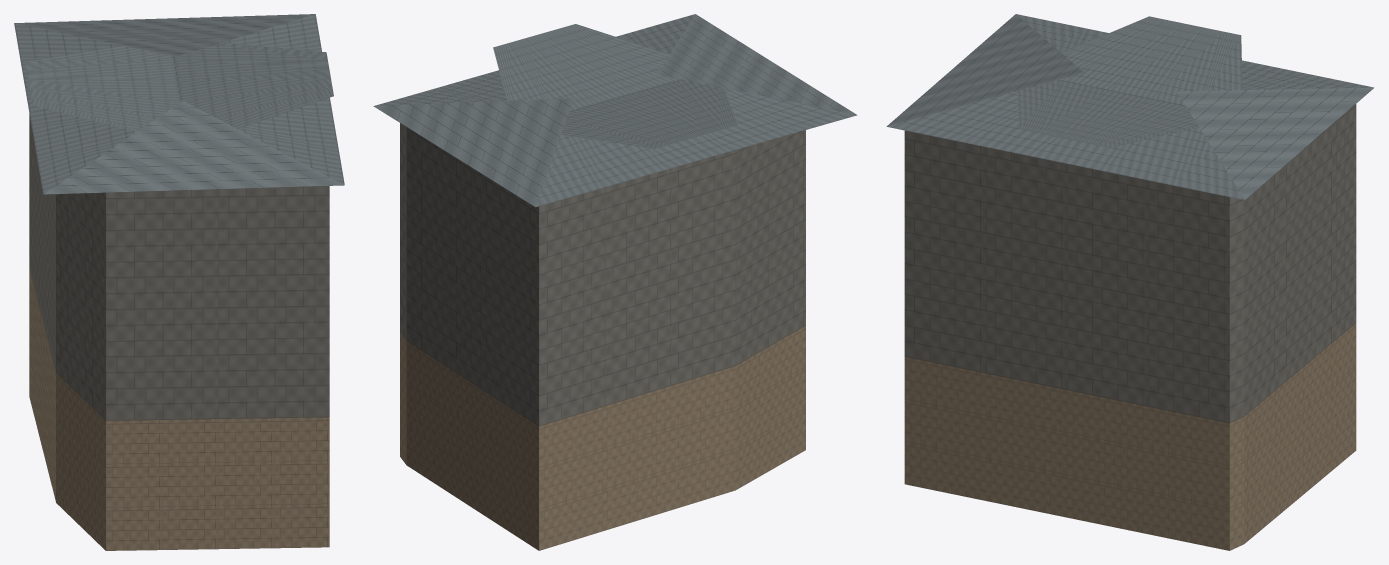
The model's file is bld_c-3_19_541.gltf.
The picture shows the model from 3 angles, left to right: view 1: azimuth 30°, elevation 25°; view 2: azimuth 150°, elevation 25°; view 3: azimuth 270°, elevation 25°; orthographic projection. The views are drawn at different scales.
Visible parts, largest first — view 1: bld_c-3_19_541; view 2: bld_c-3_19_541; view 3: bld_c-3_19_541.
Boxes of the visible parts, x1=… form: bld_c-3_19_541: x1=14, y1=14, x2=344, y2=550; bld_c-3_19_541: x1=373, y1=14, x2=857, y2=550; bld_c-3_19_541: x1=886, y1=14, x2=1373, y2=550.
Bounding box in the file's own units: 15.97 × 15.4 × 17.69.
Materials: 3 (3 with a texture image).
